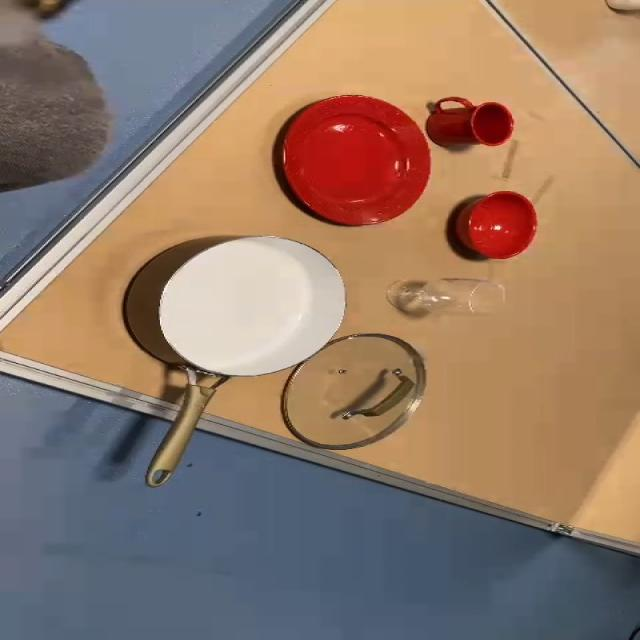Bowl: (455, 192, 537, 258)
Glass: (383, 273, 512, 318)
Plate: (276, 96, 446, 229)
cup: (428, 96, 527, 146)
pot: (127, 235, 345, 486)
